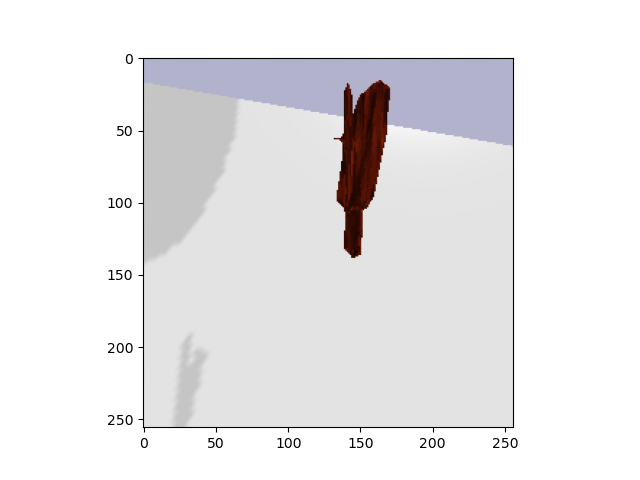v249b387_107: (328, 74, 399, 267)
